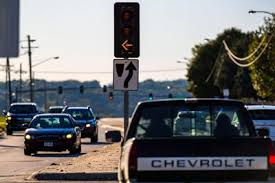keepRight: (112, 57, 139, 91)
